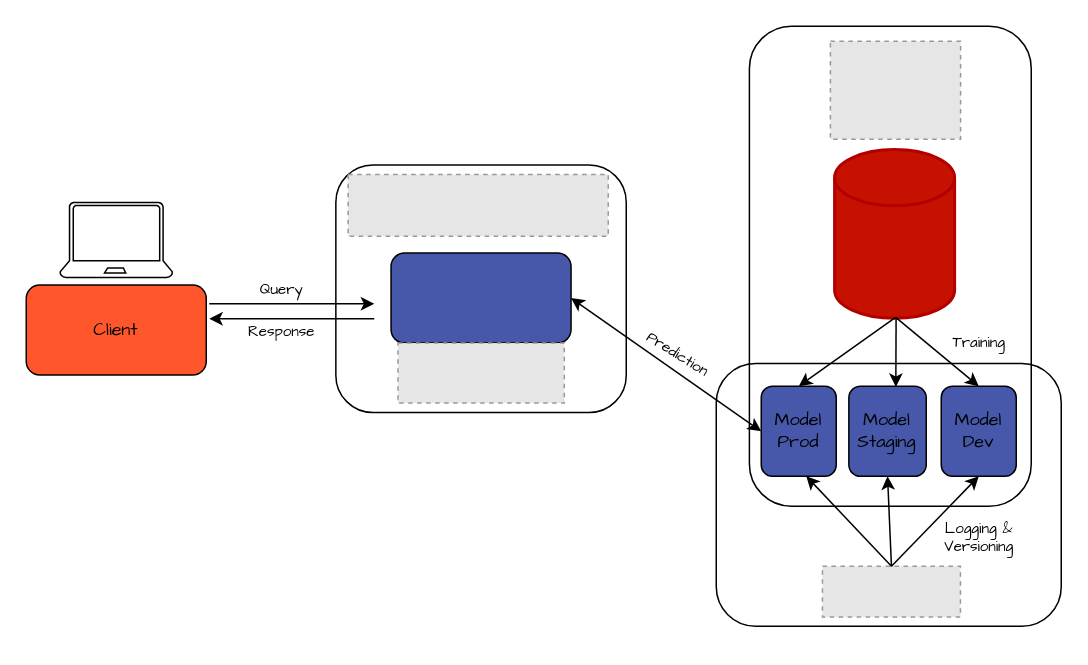
Some shapes in this 1088 by 665 pixel diagram are drawn without their labels. Grey dashed boxes stand in for pictures. Each missing label, with the centre of its shape:
API REST: point (480, 297)
Data: point (893, 233)
